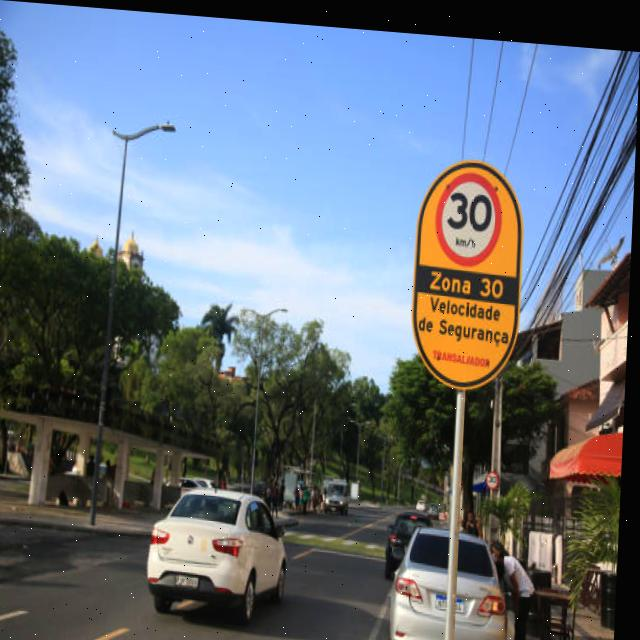Speed limit 30: (432, 157, 519, 265)
